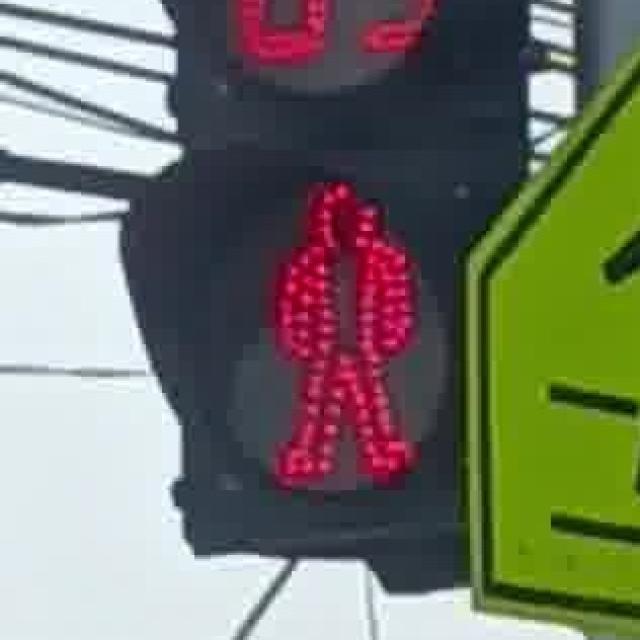red-crossing: (251, 164, 425, 494)
